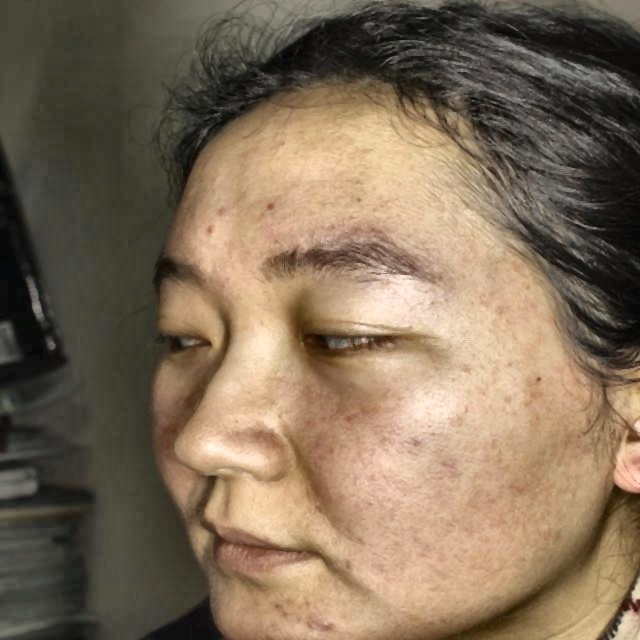comedone: (298, 610, 333, 635), (205, 201, 225, 241)
